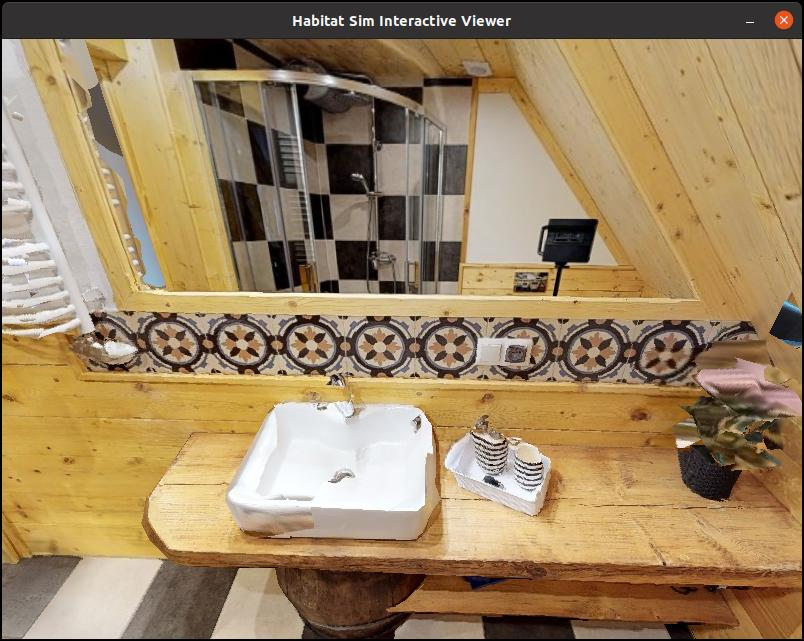shower: (204, 59, 453, 297)
sink: (242, 367, 448, 561)
